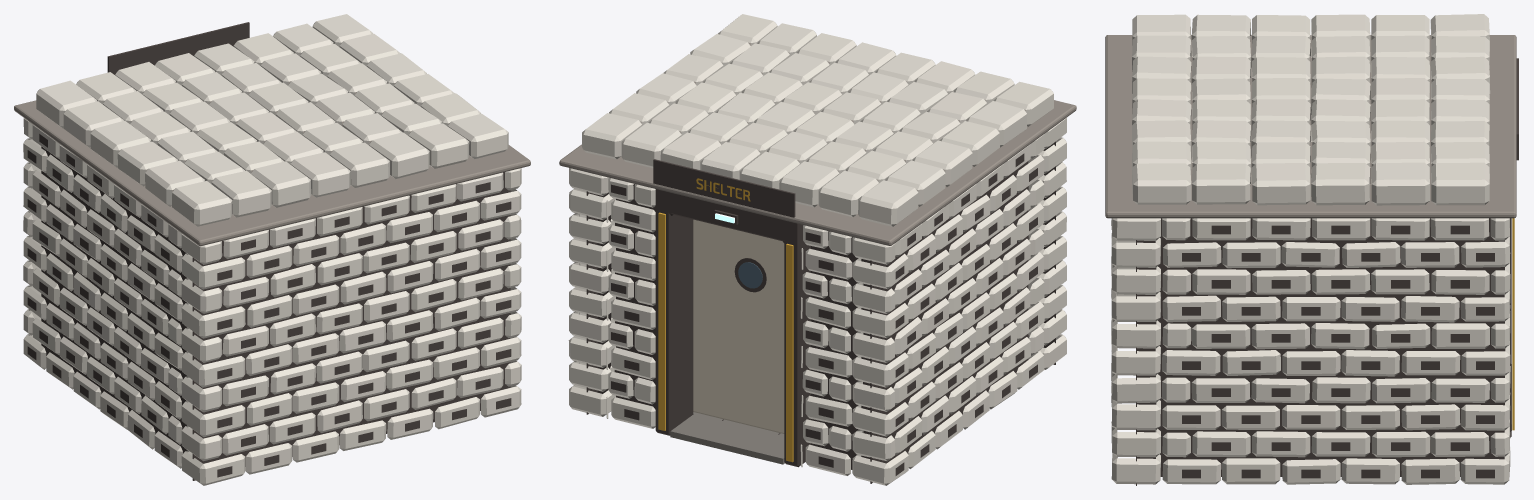
The model's file is building_storm_shelter.glb.
3 views of the same model, side by side, from view 1: azimuth 30°, elevation 25°; view 2: azimuth 150°, elevation 25°; view 3: azimuth 270°, elevation 25° (orthographic). The views are drawn at different scales.
Parts seen in each view (by area): view 1: walls-col, roof-col, detail-col; view 2: walls-col, roof-col, door, frame-col, detail-col, interior-col; view 3: walls-col, roof-col, detail-col.
Part boxes in pixels (x1,y1,x2,y2): walls-col: (23,118,521,485); roof-col: (14,14,530,246); detail-col: (107,22,249,74); walls-col: (568,117,1066,485); roof-col: (559,14,1076,245); door: (693,219,784,433); frame-col: (655,189,810,467); detail-col: (653,159,795,462); interior-col: (670,412,784,464); walls-col: (1111,218,1510,485); roof-col: (1105,14,1516,218); detail-col: (1512,58,1518,430).
Size of the model in its own units: 3.54 by 2.81 by 3.47.
